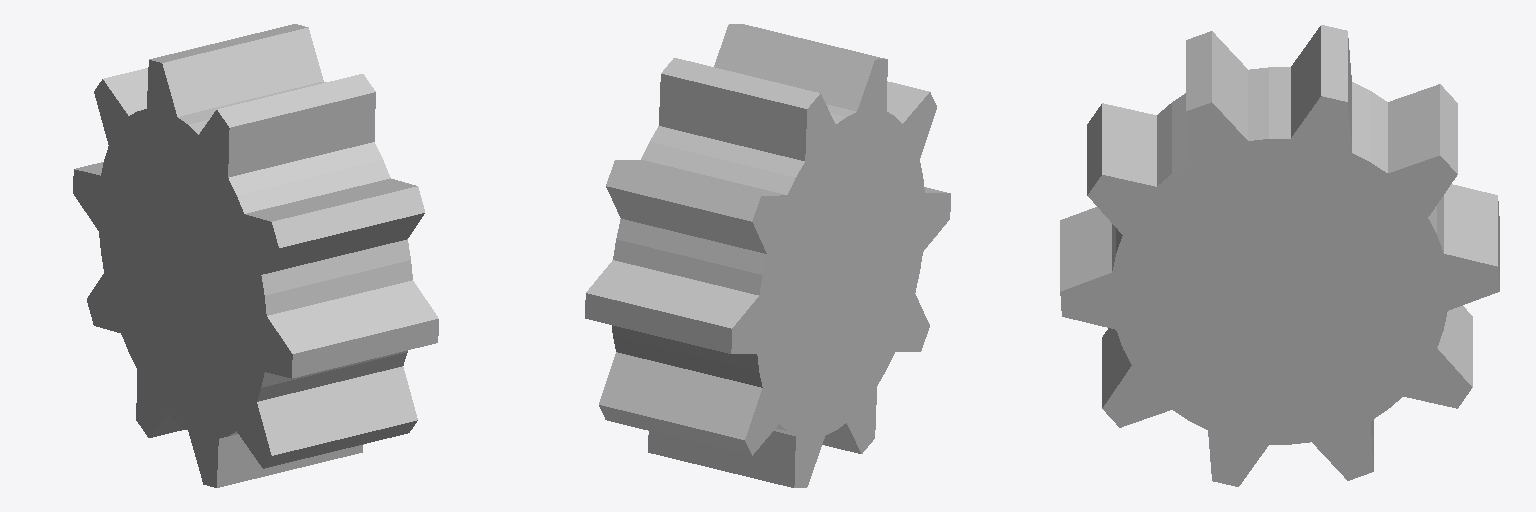
File: gear.obj
The picture shows the model from 3 angles: view 1: azimuth 30°, elevation 25°; view 2: azimuth 150°, elevation 25°; view 3: azimuth 270°, elevation 25°; orthographic projection.
Visible parts, largest first — view 1: Cylinder; view 2: Cylinder; view 3: Cylinder.
Boxes of the visible parts, box(x1,y1,x2,y2) form: Cylinder: box(73, 24, 438, 487); Cylinder: box(585, 24, 950, 487); Cylinder: box(1060, 25, 1499, 486).
Bounding box in the file's own units: 6 × 15.32 × 15.6.